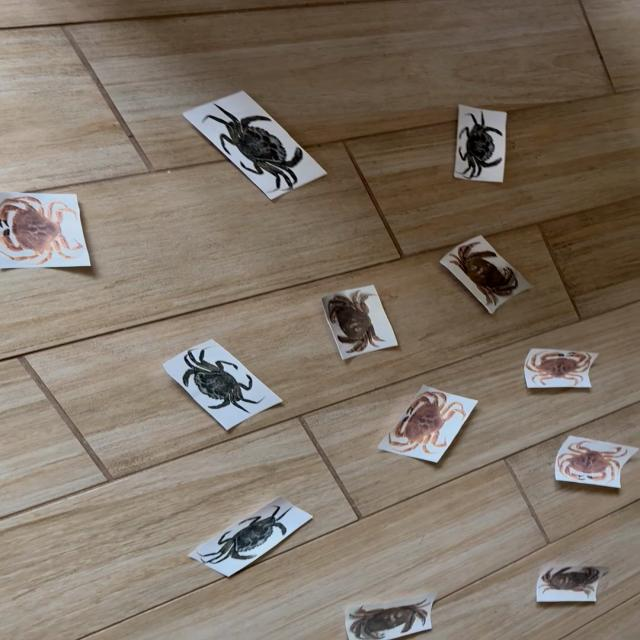egc: (163, 340, 281, 430), (190, 498, 311, 576), (203, 105, 302, 189), (454, 105, 506, 183)
